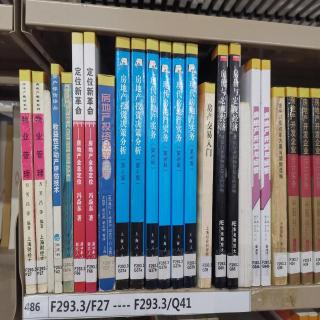book-spine: (98, 73, 117, 293), (269, 86, 289, 288), (19, 71, 37, 295), (158, 41, 174, 291), (227, 43, 243, 290), (71, 34, 86, 293), (31, 70, 48, 295), (130, 39, 145, 290), (145, 40, 160, 289), (198, 82, 216, 288), (212, 44, 227, 289), (84, 31, 98, 293), (173, 44, 187, 291), (259, 58, 274, 287), (297, 87, 314, 286), (49, 62, 63, 294), (285, 87, 301, 285), (184, 45, 197, 288), (118, 35, 130, 291), (61, 74, 75, 293), (238, 102, 254, 288), (251, 59, 263, 287), (42, 91, 55, 293), (310, 89, 320, 285)
